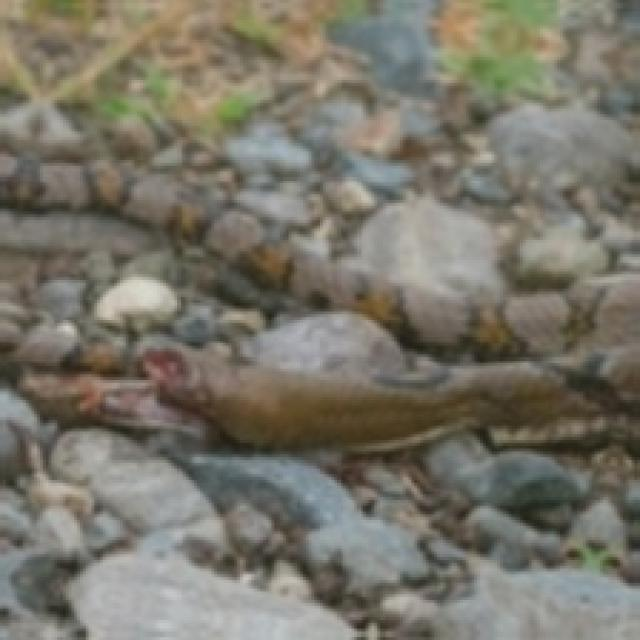dog-toothed cat snake: (0, 161, 640, 448)
